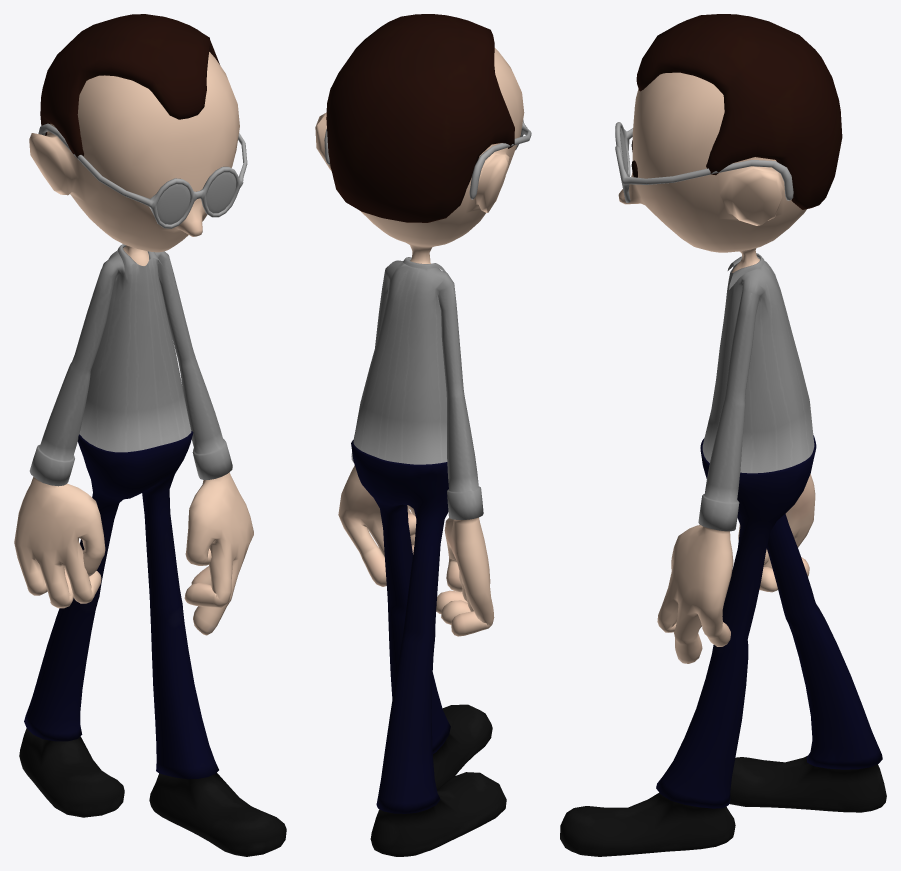
The model's file is Animation_Cartoon_Starter_000080.obj.
3 views of the same model, side by side, from view 1: azimuth 30°, elevation 25°; view 2: azimuth 150°, elevation 25°; view 3: azimuth 270°, elevation 25° (orthographic). The views are drawn at different scales.
Visible parts, largest first — view 1: bm_09; view 2: bm_09; view 3: bm_09.
Part boxes in pixels (x1,y1,x2,y2): bm_09: (14,14,286,856); bm_09: (315,14,531,856); bm_09: (560,14,886,856).
Bounding box in the file's own units: 0.3897 × 1.5 × 0.5554.
Materials: 3 (1 with a texture image).
